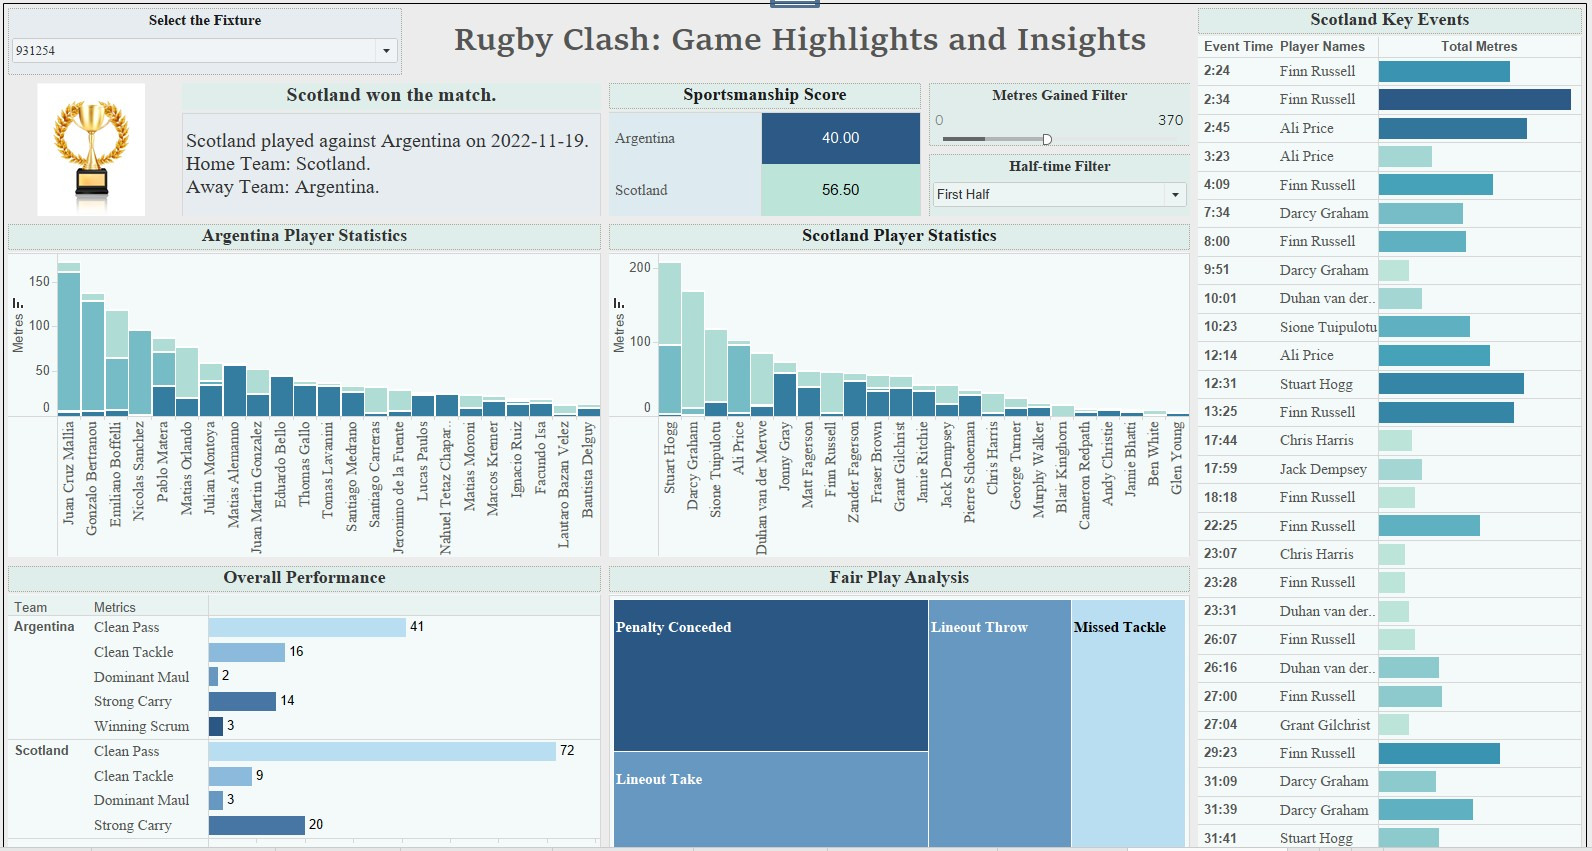

What the dashboard file says about the page in this screenshot:
{"tool":"tableau","page":{"name":"Rugby Dashboard","canvas":[1600,900],"ordinal":0},"visuals":[{"type":"filter","title":"Fair Play Analysis","param":"[federated.0vvfzd40ah0akz1ctzeyz0wlu628].[none:Fixture_id:ok]","box":[9,9,402.5,74.8]},{"type":"text","box":[411.5,9,787.9,74.8]},{"type":"worksheet","title":"Match Timeline","mark":"GanttBar","rows":["Calculation_1201898210611609600","Calculation_448671172448403456"],"box":[1199.4,9,391.6,882]},{"type":"image","param":"C:/Users/agnel/Downloads/Trophy.jpg","box":[9,83.8,173.8,141.6]},{"type":"worksheet","title":"Match Overview","mark":"Text","box":[182.8,83.8,427.4,141.6]},{"type":"worksheet","title":"Sportsmanship Score","mark":"Square","rows":["Team"],"box":[610.2,83.8,319.5,141.6]},{"type":"filter","title":"Losing Player Statistics","param":"[federated.0vvfzd40ah0akz1ctzeyz0wlu628].[sum:Metres:qk]","box":[929.7,83.8,269.6,70.8]},{"type":"filter","title":"Match Timeline","param":"[federated.0vvfzd40ah0akz1ctzeyz0wlu628].[none:Calculation_1108448517882318848:n","box":[929.7,154.6,269.6,70.8]},{"type":"worksheet","title":"Losing Player Statistics","mark":"Bar","rows":["Metres"],"cols":["Calculation_448671172448403456"],"box":[9,225.4,601.2,341.2]},{"type":"worksheet","title":"Winning Player Statistics","mark":"Bar","rows":["Metres"],"cols":["Calculation_448671172448403456"],"box":[610.2,225.4,589.2,341.2]},{"type":"worksheet","title":"Team Performance","mark":"Automatic","rows":["Team","Calculation_972496105228750849"],"cols":["Calculation_1201898210620096513"],"box":[9,566.7,601.2,324.3]},{"type":"worksheet","title":"Fair Play Analysis","mark":"Automatic","box":[610.2,566.7,589.2,324.3]}]}

Visuals, with their boxes on the page's 1600x900 design canvas (x1, y1, x2, y2). These are canvas units, not pixel positions in the 1592x851 screenshot, which may show the page scaled, cropped or inside an application window:
"Fair Play Analysis" filter: (x1=9, y1=9, x2=412, y2=84)
text: (x1=412, y1=9, x2=1199, y2=84)
"Match Timeline" worksheet (GanttBar marks): (x1=1199, y1=9, x2=1591, y2=891)
image: (x1=9, y1=84, x2=183, y2=225)
"Match Overview" worksheet (Text marks): (x1=183, y1=84, x2=610, y2=225)
"Sportsmanship Score" worksheet (Square marks): (x1=610, y1=84, x2=930, y2=225)
"Losing Player Statistics" filter: (x1=930, y1=84, x2=1199, y2=155)
"Match Timeline" filter: (x1=930, y1=155, x2=1199, y2=225)
"Losing Player Statistics" worksheet (Bar marks): (x1=9, y1=225, x2=610, y2=567)
"Winning Player Statistics" worksheet (Bar marks): (x1=610, y1=225, x2=1199, y2=567)
"Team Performance" worksheet: (x1=9, y1=567, x2=610, y2=891)
"Fair Play Analysis" worksheet: (x1=610, y1=567, x2=1199, y2=891)
